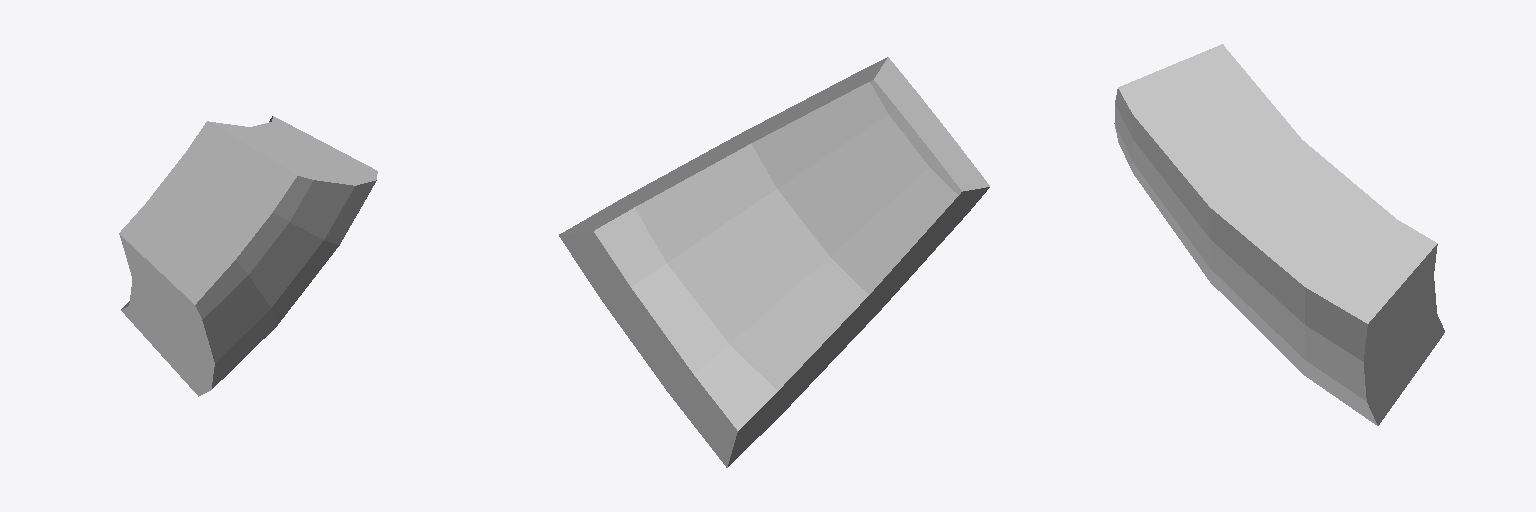
Rendered from sphere_slice.obj.
The picture shows the model from 3 angles: view 1: azimuth 30°, elevation 25°; view 2: azimuth 150°, elevation 25°; view 3: azimuth 270°, elevation 25°; orthographic projection.
Visible parts, largest first — view 1: obj_0; view 2: obj_0; view 3: obj_0.
Part boxes in pixels (x1,y1,x2,y2): obj_0: (119,116,377,396); obj_0: (559,57,989,467); obj_0: (1114,44,1444,425).
Size of the model in its own units: 12.43 by 12.52 by 10.76.